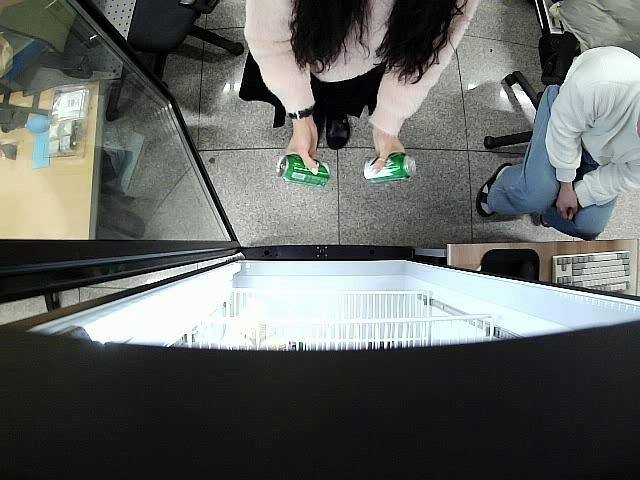12_chilsungCider: (363, 151, 417, 185), (276, 154, 330, 186)
